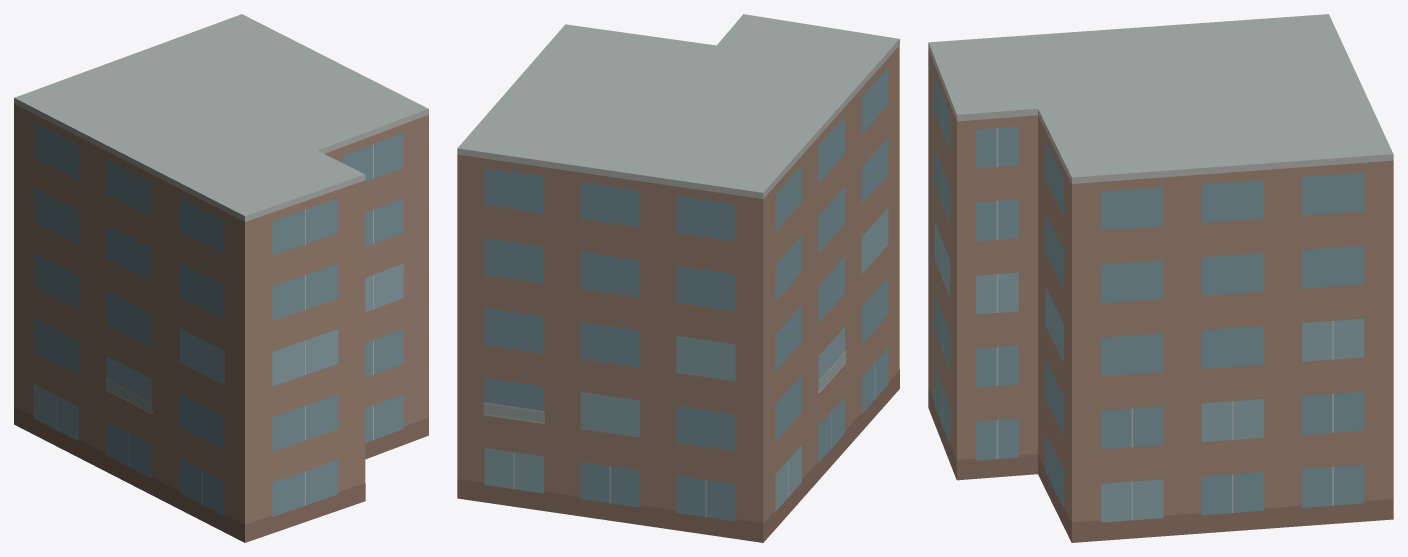
File: survey-upis-32843672.glb
3 views of the same model, side by side, from view 1: azimuth 30°, elevation 25°; view 2: azimuth 150°, elevation 25°; view 3: azimuth 270°, elevation 25° (orthographic). The views are drawn at different scales.
Parts seen in each view (by area): view 1: survey-upis-32843672.tmp; view 2: survey-upis-32843672.tmp; view 3: survey-upis-32843672.tmp.
Boxes of the visible parts, <box> form: survey-upis-32843672.tmp: <box>14,14,428,542</box>; survey-upis-32843672.tmp: <box>457,14,899,542</box>; survey-upis-32843672.tmp: <box>928,14,1393,542</box>.
Size of the model in its own units: 13.17 by 13.7 by 15.82.
